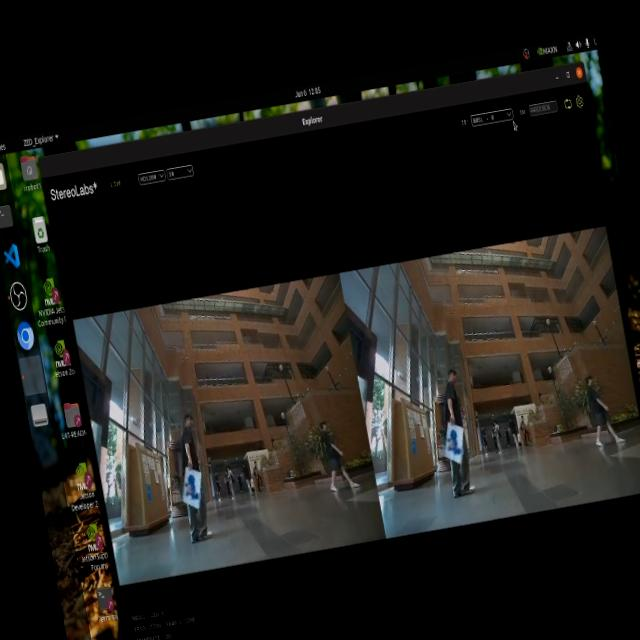blue: (178, 464, 206, 498), (445, 427, 465, 458)
